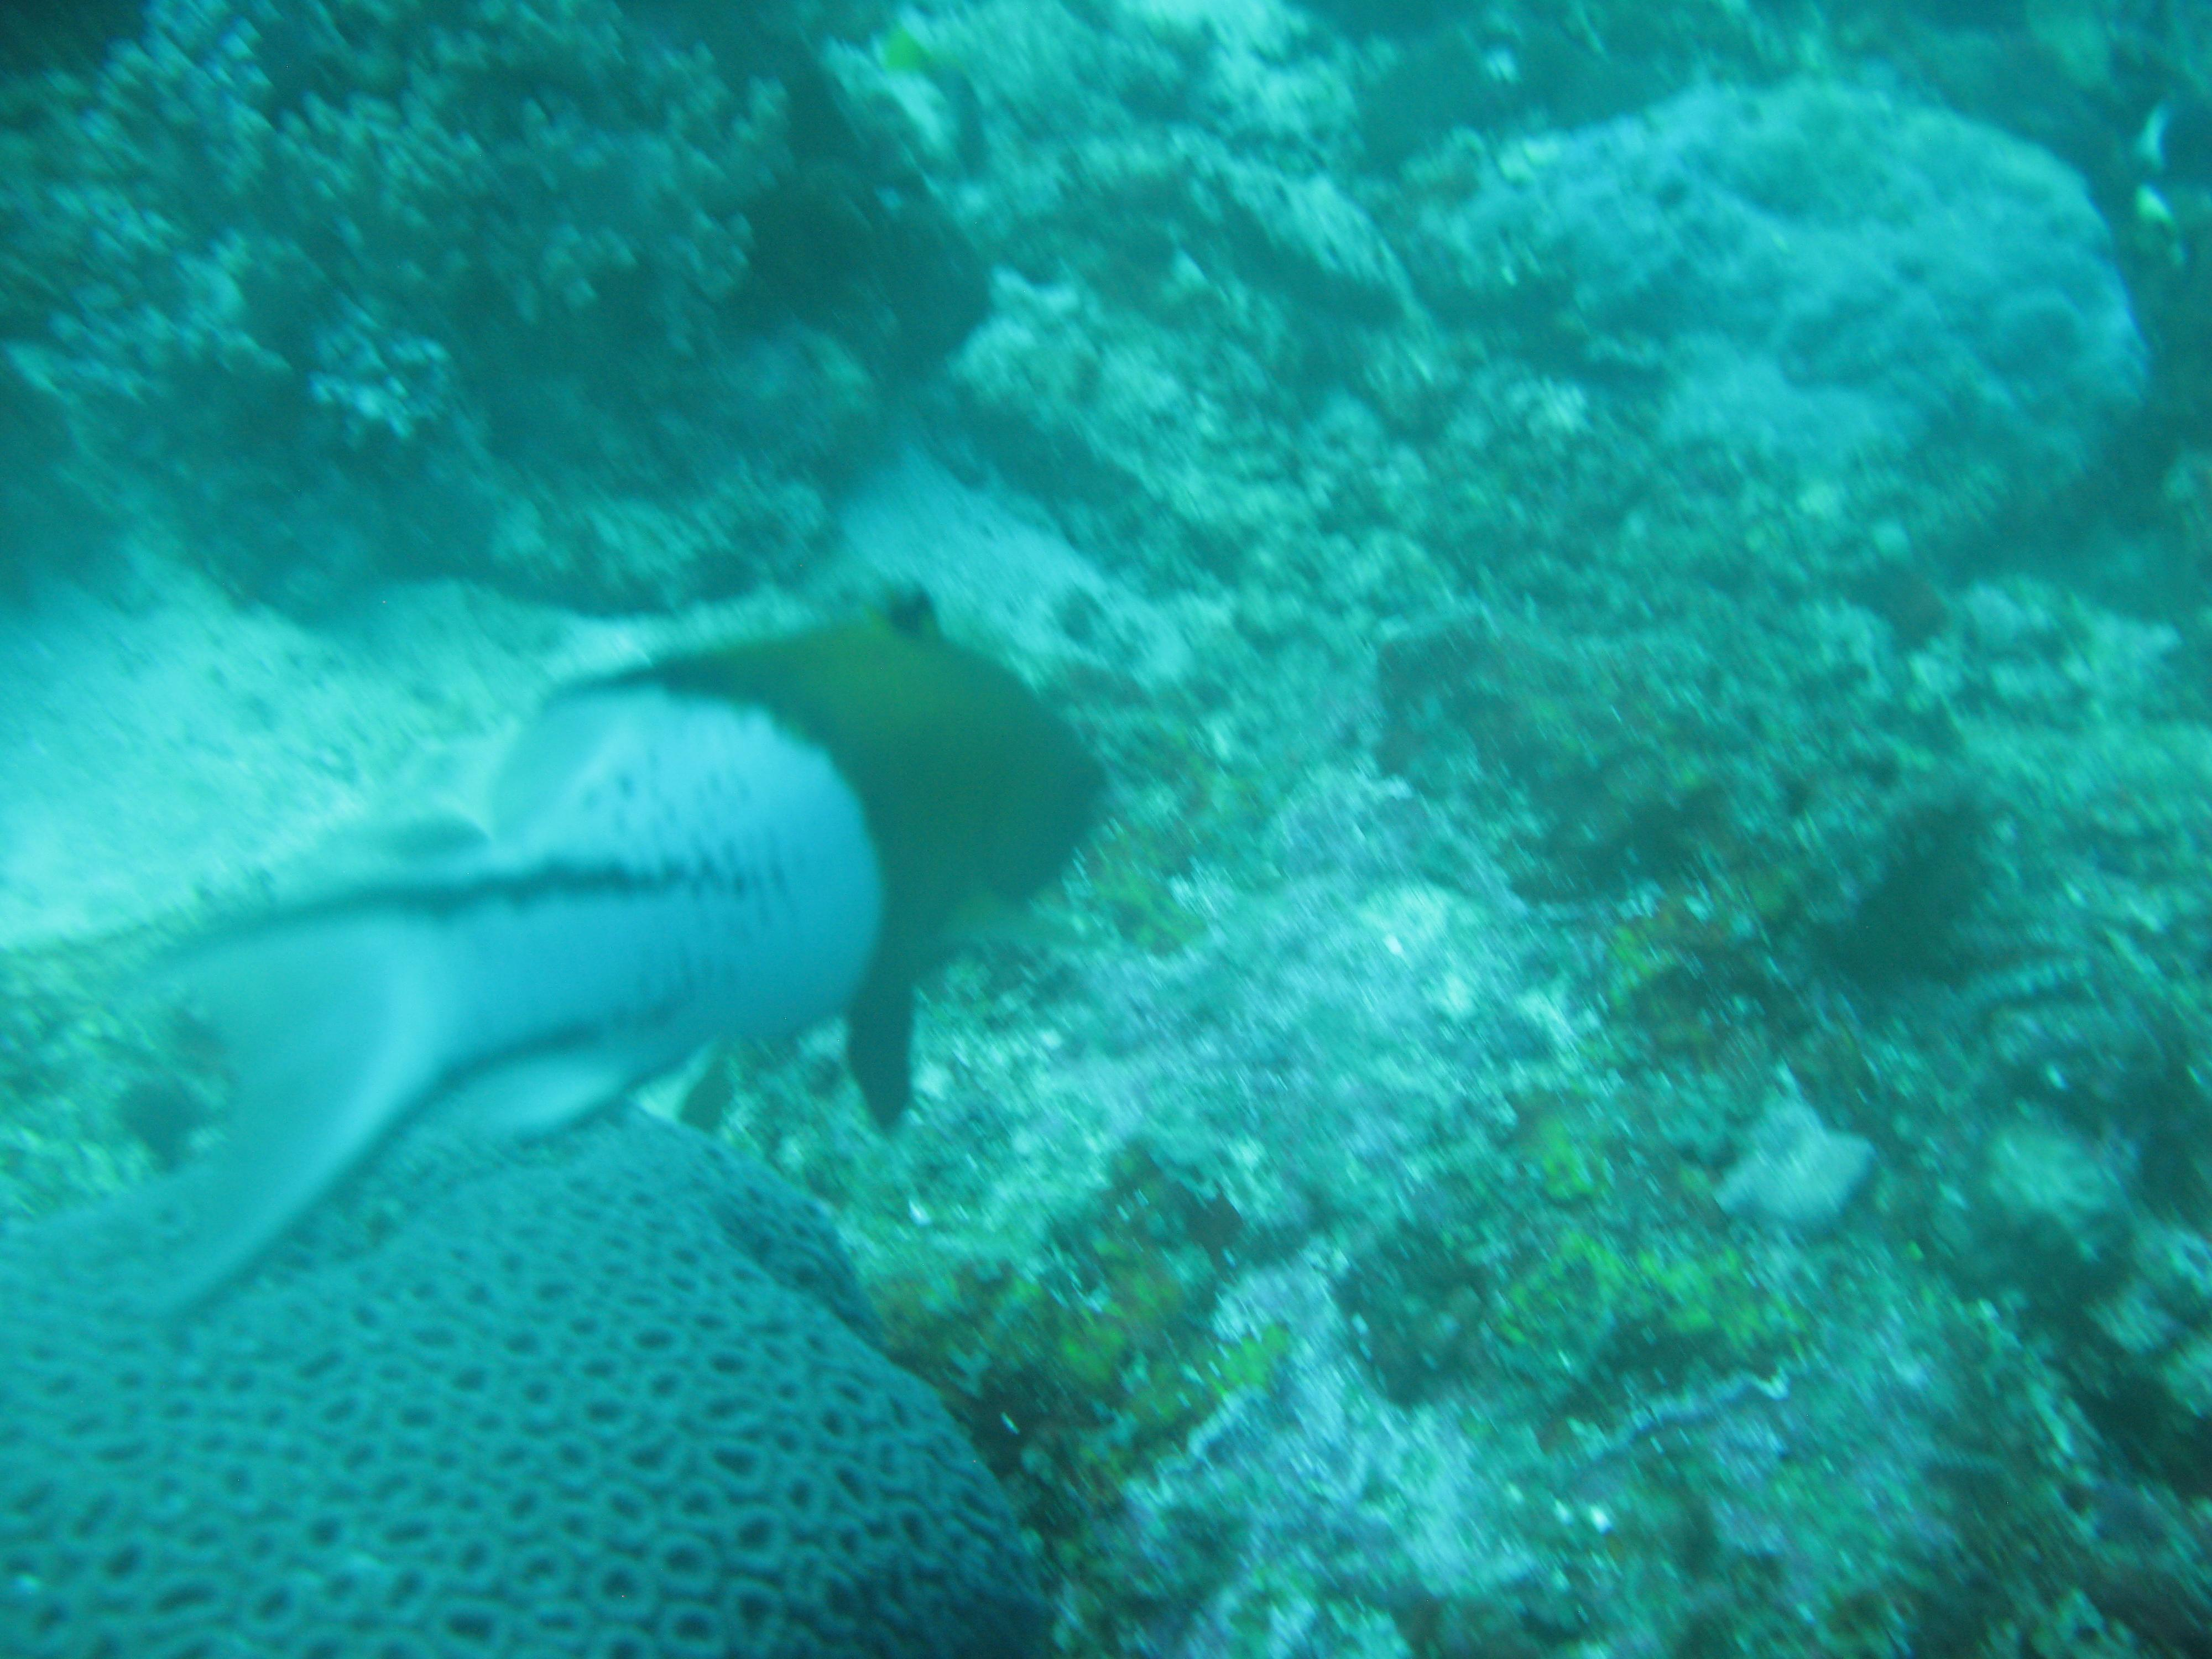Fish: (42, 512, 1195, 1335)
